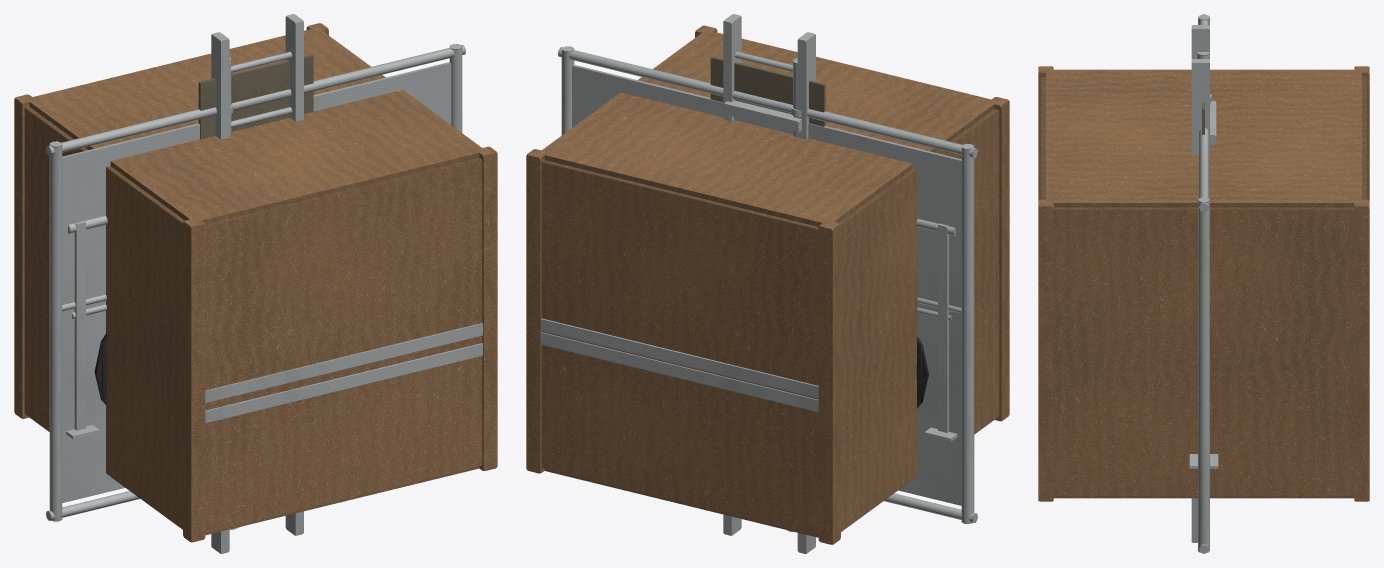
The model's file is propsKit.glb.
3 renders of one model, left to right at view 1: azimuth 30°, elevation 25°; view 2: azimuth 150°, elevation 25°; view 3: azimuth 270°, elevation 25°, orthographic. The views are drawn at different scales.
Visible parts, largest first — view 1: crateHuge_lod0_v0, chunk_2, fenceSection_lod0_v0, chunk_5, chunk_0 (×2), streetSign_lod0_v0, crateHuge_lod0_v1, ladder_lod1_v0, handrail_lod0_v0, chunk_7, ladder_lod0_v0, fenceSection_lod1_v0 (+1 smaller); view 2: chunk_1 (×2), crateHuge_lod0_v0, fenceSection_lod0_v1, fenceSection_lod0_v0, chunk_0 (×2), chunk_2, fenceSection_lod1_v0, crateHuge_lod0_v1, chunk_7, streetSign_lod0_v0, handrail_lod0_v0, ladder_lod0_v0 (+2 smaller); view 3: crateHuge_lod0_v0, chunk_2, chunk_0 (×2), fenceSection_lod0_v0, ladder_lod0_v0, fenceSection_lod1_v0, ladder_lod1_v0, chunk_7.
Boxes of the visible parts, <box> form: crateHuge_lod0_v0: <box>15,23,496,542</box>; chunk_2: <box>62,63,451,502</box>; fenceSection_lod0_v0: <box>46,44,465,521</box>; chunk_5: <box>205,152,497,470</box>; chunk_0 (×2): <box>14,47,462,418</box>; streetSign_lod0_v0: <box>198,54,313,139</box>; crateHuge_lod0_v1: <box>205,323,482,403</box>; ladder_lod1_v0: <box>211,14,303,553</box>; handrail_lod0_v0: <box>66,216,107,439</box>; chunk_7: <box>183,222,204,542</box>; ladder_lod0_v0: <box>211,14,302,553</box>; fenceSection_lod1_v0: <box>46,45,463,520</box>; chunk_1 (×2): <box>541,162,977,535</box>; crateHuge_lod0_v0: <box>527,25,1008,537</box>; fenceSection_lod0_v1: <box>572,65,961,505</box>; fenceSection_lod0_v0: <box>558,46,977,523</box>; chunk_0 (×2): <box>561,49,840,544</box>; chunk_2: <box>526,154,544,473</box>; fenceSection_lod1_v0: <box>558,46,976,523</box>; crateHuge_lod0_v1: <box>540,332,818,412</box>; chunk_7: <box>994,100,1009,421</box>; streetSign_lod0_v0: <box>710,56,825,532</box>; handrail_lod0_v0: <box>916,223,956,441</box>; ladder_lod0_v0: <box>724,14,815,552</box>; crateHuge_lod0_v0: <box>1038,66,1369,501</box>; chunk_2: <box>1354,205,1369,501</box>; chunk_0 (×2): <box>1198,72,1369,552</box>; fenceSection_lod0_v0: <box>1198,14,1209,553</box>; ladder_lod0_v0: <box>1191,25,1216,542</box>; fenceSection_lod1_v0: <box>1198,14,1208,551</box>; ladder_lod1_v0: <box>1191,25,1209,542</box>; chunk_7: <box>1038,72,1045,200</box>.
Size of what is drawn, in the model's own units: 2.2 by 2.6 by 1.63.
Materials: 1 (1 with a texture image).
